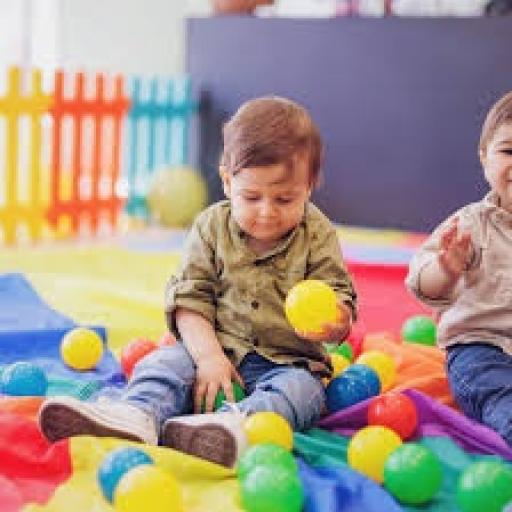baby: (39, 96, 356, 466), (405, 92, 511, 446)
